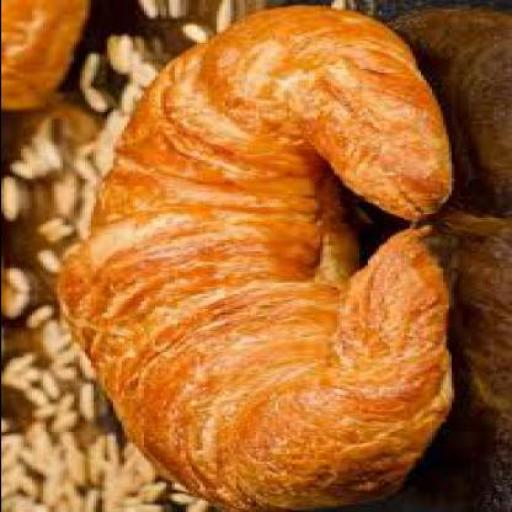biodegradable: (50, 2, 450, 510), (0, 423, 202, 510), (3, 268, 95, 425), (2, 121, 98, 270), (78, 32, 162, 186), (1, 0, 83, 108), (134, 0, 236, 42)
